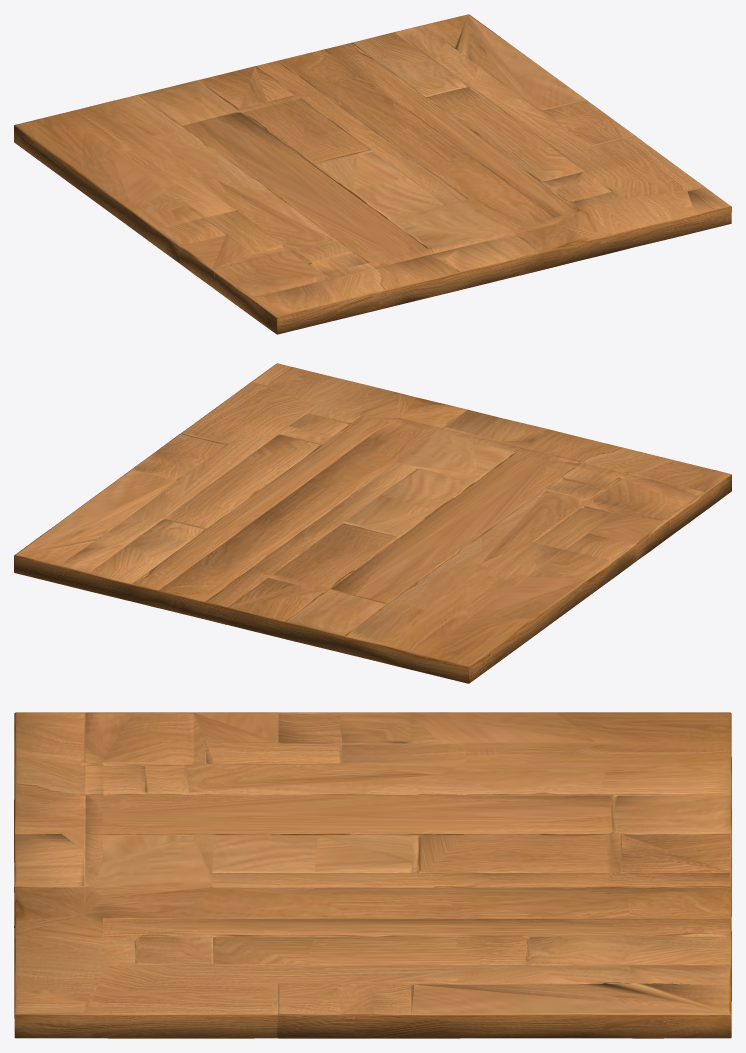
File: cafe-floor.glb
3 renders of one model, top to bottom at view 1: azimuth 30°, elevation 25°; view 2: azimuth 150°, elevation 25°; view 3: azimuth 270°, elevation 25°, orthographic. The views are drawn at different scales.
Parts seen in each view (by area): view 1: tripo_node_c315d657-391d-4059-8c62-bb225ec88158; view 2: tripo_node_c315d657-391d-4059-8c62-bb225ec88158; view 3: tripo_node_c315d657-391d-4059-8c62-bb225ec88158.
Boxes of the visible parts, x1,y1,x2,y2 form: tripo_node_c315d657-391d-4059-8c62-bb225ec88158: (14, 14, 731, 334); tripo_node_c315d657-391d-4059-8c62-bb225ec88158: (14, 363, 731, 683); tripo_node_c315d657-391d-4059-8c62-bb225ec88158: (14, 712, 731, 1038).
Size of the model in its own units: 3 by 0.1204 by 3.
1 material, 1 textured.
